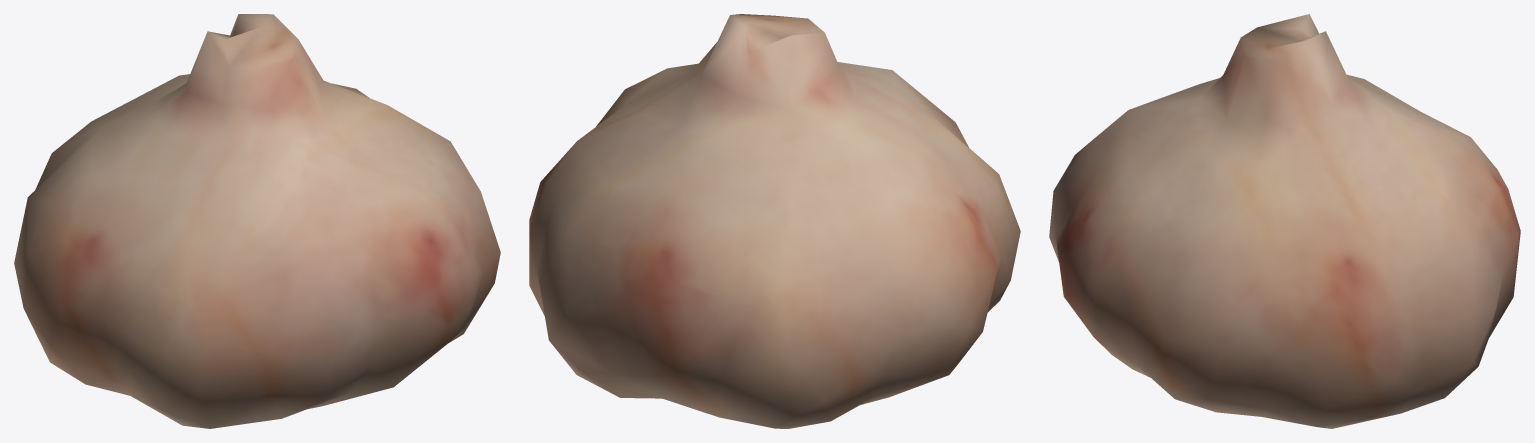
Rendered from SM_Food_SM_Garlic.fbx.
The picture shows the model from 3 angles, left to right: view 1: azimuth 30°, elevation 25°; view 2: azimuth 150°, elevation 25°; view 3: azimuth 270°, elevation 25°; orthographic projection. The views are drawn at different scales.
Parts seen in each view (by area): view 1: SM_Food_SM_Garlic_LOD0; view 2: SM_Food_SM_Garlic_LOD0; view 3: SM_Food_SM_Garlic_LOD0.
Part boxes in pixels (left/top/right/bottom): SM_Food_SM_Garlic_LOD0: left=14, top=14, right=500, bottom=428; SM_Food_SM_Garlic_LOD0: left=529, top=14, right=1020, bottom=428; SM_Food_SM_Garlic_LOD0: left=1049, top=14, right=1520, bottom=428.
Bounding box in the file's own units: 8.93 × 8.85 × 7.58.
